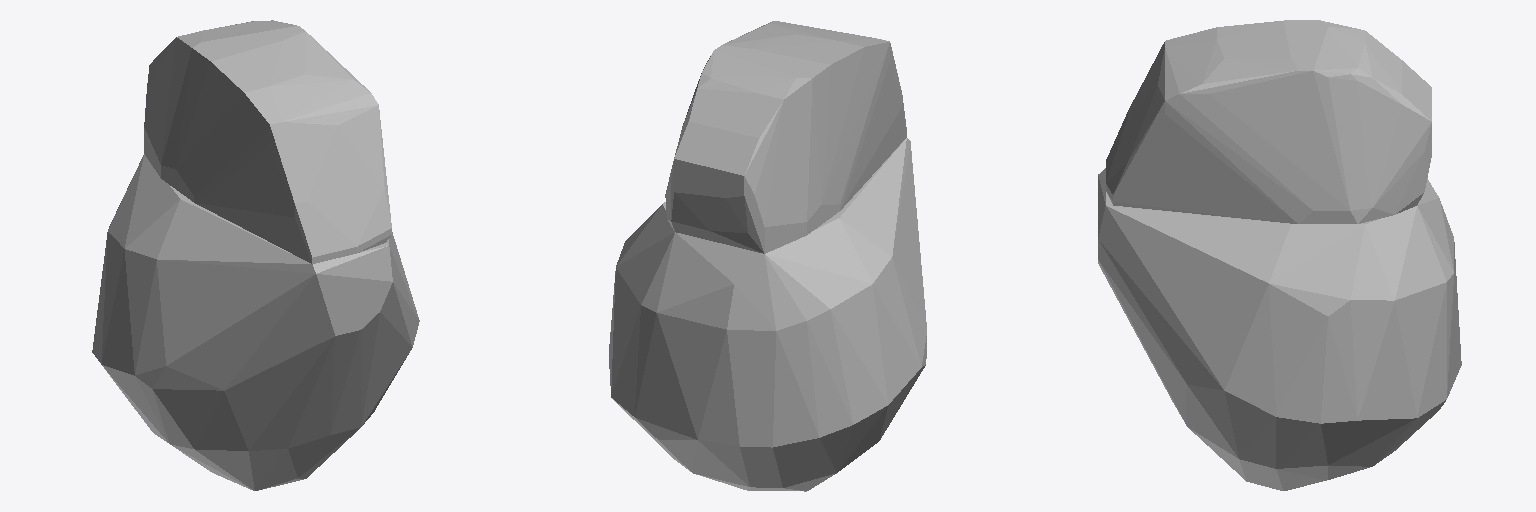
URDF robot description (root):
<robot name="root">
  <link name="link_d62da9fd967f103b95ff232cd38210b4_convex_piece_0">
    <inertial>
      <origin rpy="0 0 0" xyz="0 0 0"/>
      <mass value="2.98E-05"/>
      <inertia ixx="7.03E-09" ixy="9.50E-12" ixz="-1.42E-11" iyy="6.35E-09" iyz="-5.51E-10" izz="5.33E-09"/>
    </inertial>
    <visual>
      <origin rpy="0 0 0" xyz="0 0 0"/>
      <geometry>
        <mesh filename="d62da9fd967f103b95ff232cd38210b4_convex_piece_0.obj" scale="1.0000E+00"/>
      </geometry>
      <material name="">
        <color rgba="7.50E-01 7.50E-01 7.50E-01 1"/>
      </material>
    </visual>
    <collision>
      <origin rpy="0 0 0" xyz="0 0 0"/>
      <geometry>
        <mesh filename="d62da9fd967f103b95ff232cd38210b4_convex_piece_0.obj" scale="1.0000E+00"/>
      </geometry>
    </collision>
  </link>
  <link name="link_d62da9fd967f103b95ff232cd38210b4_convex_piece_1">
    <inertial>
      <origin rpy="0 0 0" xyz="0 0 0"/>
      <mass value="8.63E-06"/>
      <inertia ixx="4.11E-09" ixy="-7.91E-12" ixz="-6.28E-12" iyy="3.54E-09" iyz="8.22E-11" izz="9.91E-10"/>
    </inertial>
    <visual>
      <origin rpy="0 0 0" xyz="0 0 0"/>
      <geometry>
        <mesh filename="d62da9fd967f103b95ff232cd38210b4_convex_piece_1.obj" scale="1.0000E+00"/>
      </geometry>
      <material name="">
        <color rgba="7.50E-01 7.50E-01 7.50E-01 1"/>
      </material>
    </visual>
    <collision>
      <origin rpy="0 0 0" xyz="0 0 0"/>
      <geometry>
        <mesh filename="d62da9fd967f103b95ff232cd38210b4_convex_piece_1.obj" scale="1.0000E+00"/>
      </geometry>
    </collision>
  </link>
  <joint name="link_d62da9fd967f103b95ff232cd38210b4_convex_piece_1_joint" type="fixed">
    <origin rpy="0 0 0" xyz="0 0 0"/>
    <parent link="link_d62da9fd967f103b95ff232cd38210b4_convex_piece_0"/>
    <child link="link_d62da9fd967f103b95ff232cd38210b4_convex_piece_1"/>
  </joint>
</robot>

--- What the picture shows (computed from the rendered views, not written in the file) ---
3 views of the same robot in one strip: view 1: azimuth 30°, elevation 25°; view 2: azimuth 150°, elevation 25°; view 3: azimuth 270°, elevation 25° (orthographic).
Robot: root — 2 links, 1 joints (1 fixed); root link link_d62da9fd967f103b95ff232cd38210b4_convex_piece_0; default pose: all joints at 0.
Links seen in each view (by area): view 1: link_d62da9fd967f103b95ff232cd38210b4_convex_piece_0, link_d62da9fd967f103b95ff232cd38210b4_convex_piece_1; view 2: link_d62da9fd967f103b95ff232cd38210b4_convex_piece_0, link_d62da9fd967f103b95ff232cd38210b4_convex_piece_1; view 3: link_d62da9fd967f103b95ff232cd38210b4_convex_piece_0, link_d62da9fd967f103b95ff232cd38210b4_convex_piece_1.
Boxes of the visible links, x1,y1,x2,y2 form: link_d62da9fd967f103b95ff232cd38210b4_convex_piece_0: (92, 154, 419, 490); link_d62da9fd967f103b95ff232cd38210b4_convex_piece_1: (144, 20, 391, 263); link_d62da9fd967f103b95ff232cd38210b4_convex_piece_0: (609, 138, 926, 491); link_d62da9fd967f103b95ff232cd38210b4_convex_piece_1: (665, 21, 906, 253); link_d62da9fd967f103b95ff232cd38210b4_convex_piece_0: (1098, 168, 1461, 490); link_d62da9fd967f103b95ff232cd38210b4_convex_piece_1: (1106, 20, 1431, 223).
Bounding box of the posed robot: 0.0407 × 0.0464 × 0.0606 m (x, y, z).
2 mesh visuals loaded from 2 distinct referenced files (2 OBJ).